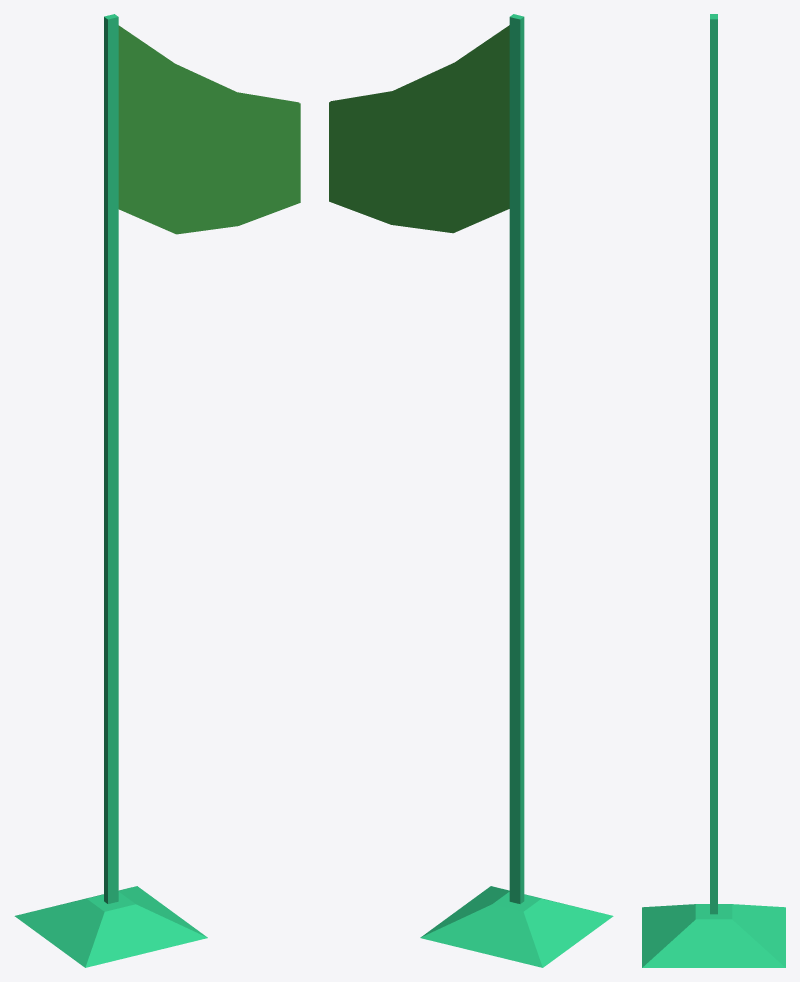
The model's file is Flag_.FBX.
The picture shows the model from 3 angles, left to right: view 1: azimuth 30°, elevation 25°; view 2: azimuth 150°, elevation 25°; view 3: azimuth 270°, elevation 25°; orthographic projection.
Visible parts, largest first — view 1: Flag_; view 2: Flag_; view 3: Flag_.
Part boxes in pixels (box(x1,y1,x2,y2)): Flag_: box(14, 14, 300, 967); Flag_: box(329, 14, 613, 967); Flag_: box(642, 14, 785, 967).
Size of the model in its own units: 4.76 by 16.58 by 2.35.
